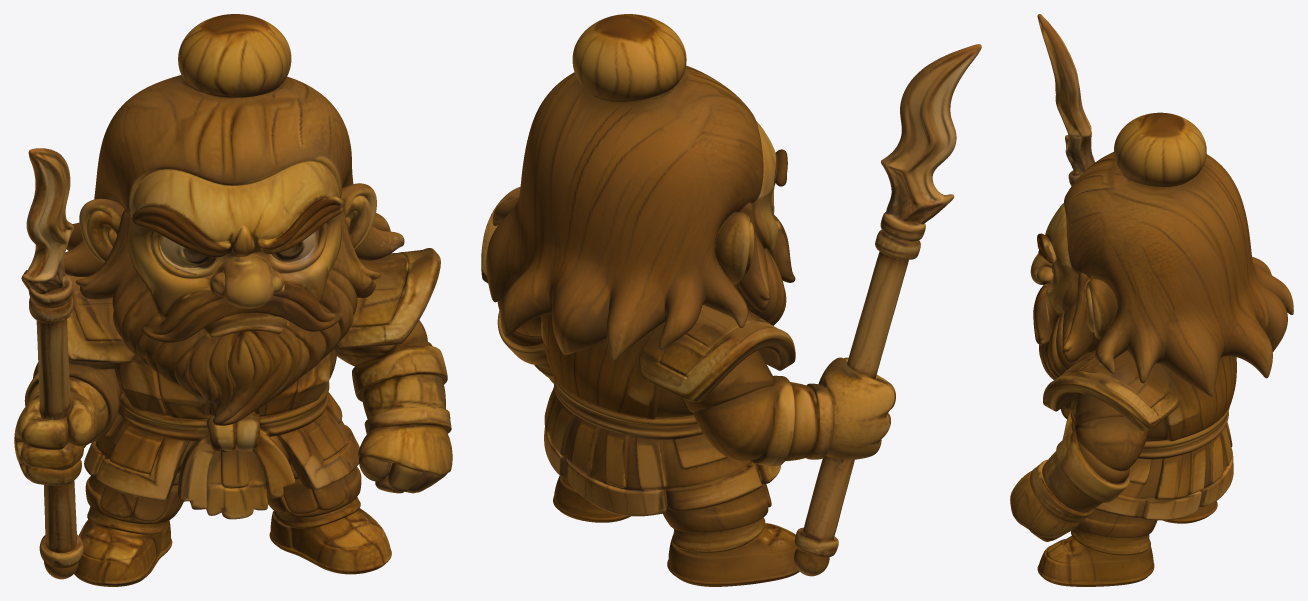
Rendered from inputmesh2.glb.
3 renders of one model, left to right at view 1: azimuth 30°, elevation 25°; view 2: azimuth 150°, elevation 25°; view 3: azimuth 270°, elevation 25°, orthographic. The views are drawn at different scales.
Visible parts, largest first — view 1: material.001; view 2: material.001; view 3: material.001.
Boxes of the visible parts, x1,y1,x2,y2 form: material.001: (14, 14, 452, 586); material.001: (481, 14, 981, 586); material.001: (1010, 14, 1293, 586).
Bounding box in the file's own units: 0.7726 × 0.8554 × 0.5126.
Materials: 1 (1 with a texture image).
